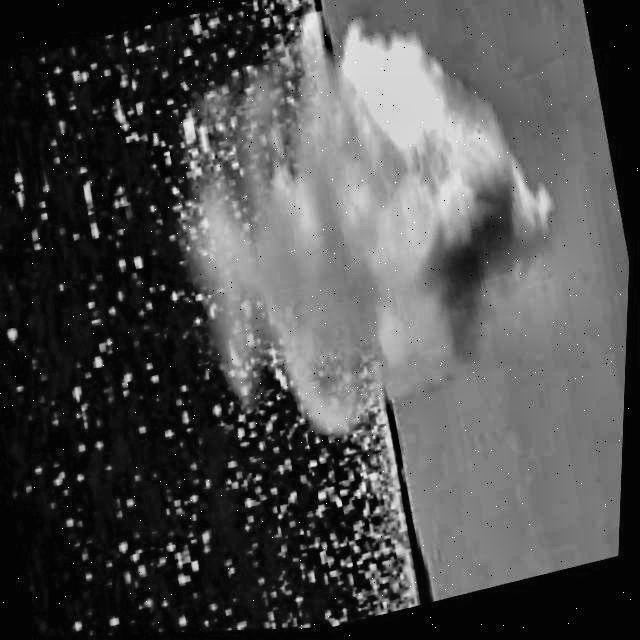Smoke: (137, 0, 592, 480)
